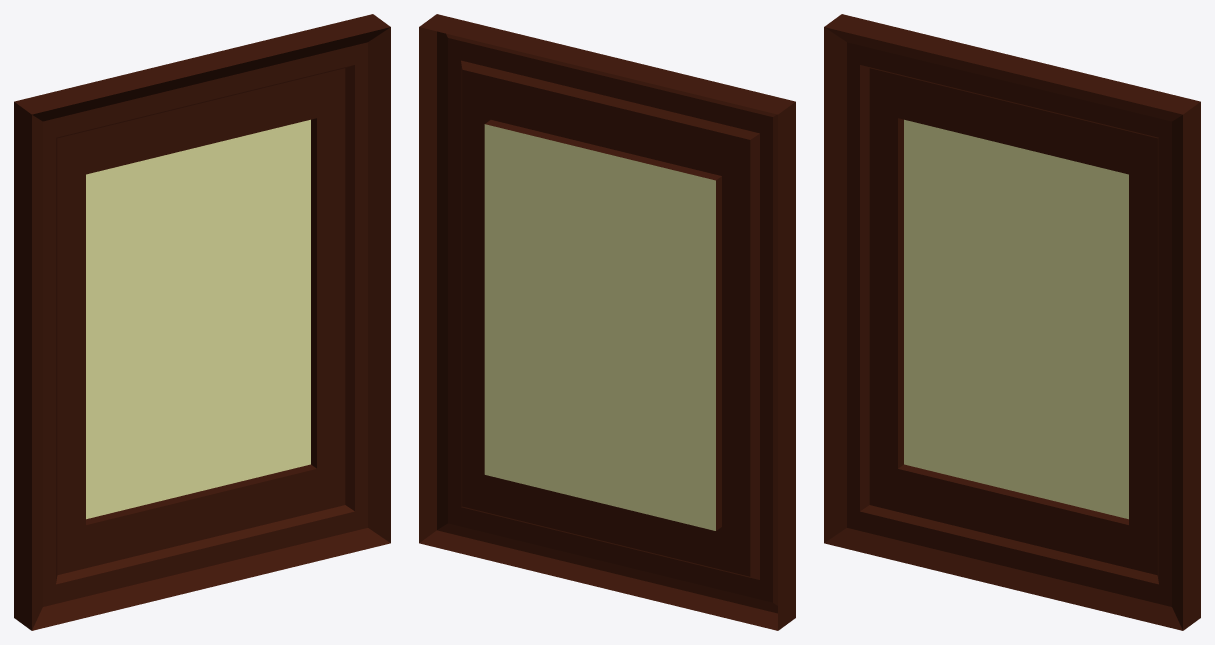
Rendered from portrait_vert.fbx.
The picture shows the model from 3 angles, left to right: view 1: azimuth 30°, elevation 25°; view 2: azimuth 150°, elevation 25°; view 3: azimuth 330°, elevation 25°; orthographic projection.
Parts seen in each view (by area): view 1: portrait_vert; view 2: portrait_vert; view 3: portrait_vert.
Boxes of the visible parts, x1,y1,x2,y2 form: portrait_vert: [14, 14, 390, 630]; portrait_vert: [419, 14, 795, 630]; portrait_vert: [824, 14, 1200, 630].
Size of the model in its own units: 146 by 200 by 12.51.
